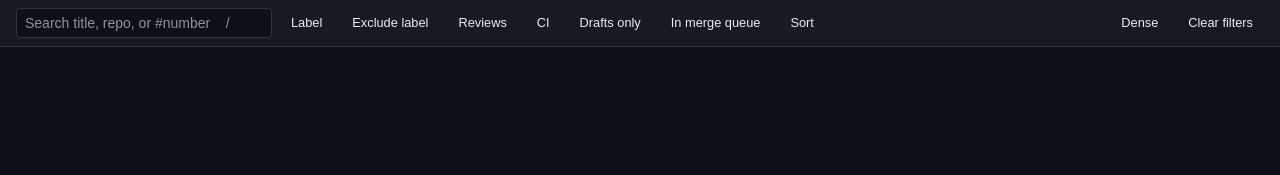
Test: FilterBar › lists every label present across the given PRs
Click the button "Label".
click(307, 23)  # box [280,9,333,37]
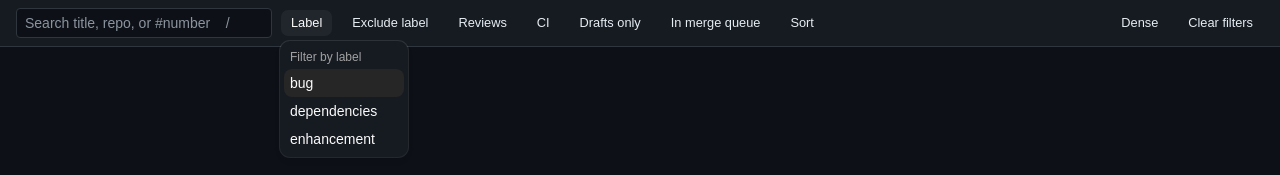
Expected: the menu item "enhancement" is shown, [290,131,375,147]
Expected: the menu item "bug" is shown, [284,69,404,97]
Expected: the menu item "dependencies" is shown, [290,103,377,119]
